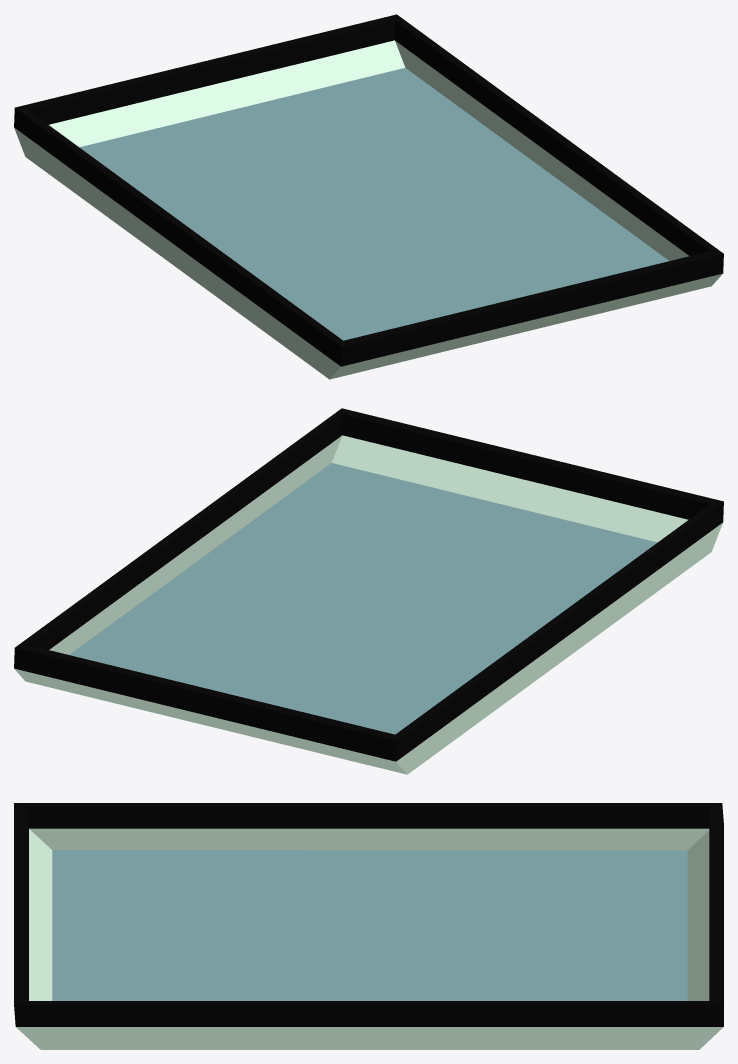
Rendered from Tray.fbx.
The picture shows the model from 3 angles, top to bottom: view 1: azimuth 30°, elevation 25°; view 2: azimuth 150°, elevation 25°; view 3: azimuth 270°, elevation 25°; orthographic projection. The views are drawn at different scales.
Visible parts, largest first — view 1: Cube.002, Cube.001, Cube.025; view 2: Cube.002, Cube.001, Cube.025; view 3: Cube.002, Cube.001, Cube.025.
Boxes of the visible parts, x1,y1,x2,y2 form: Cube.002: [79, 67, 668, 340]; Cube.001: [14, 14, 723, 366]; Cube.025: [14, 40, 722, 379]; Cube.002: [69, 463, 657, 734]; Cube.001: [14, 408, 723, 761]; Cube.025: [14, 435, 722, 774]; Cube.002: [52, 850, 687, 1000]; Cube.001: [14, 803, 723, 1026]; Cube.025: [16, 828, 723, 1049].
Bounding box in the file's own units: 4680 × 487 × 6956.
